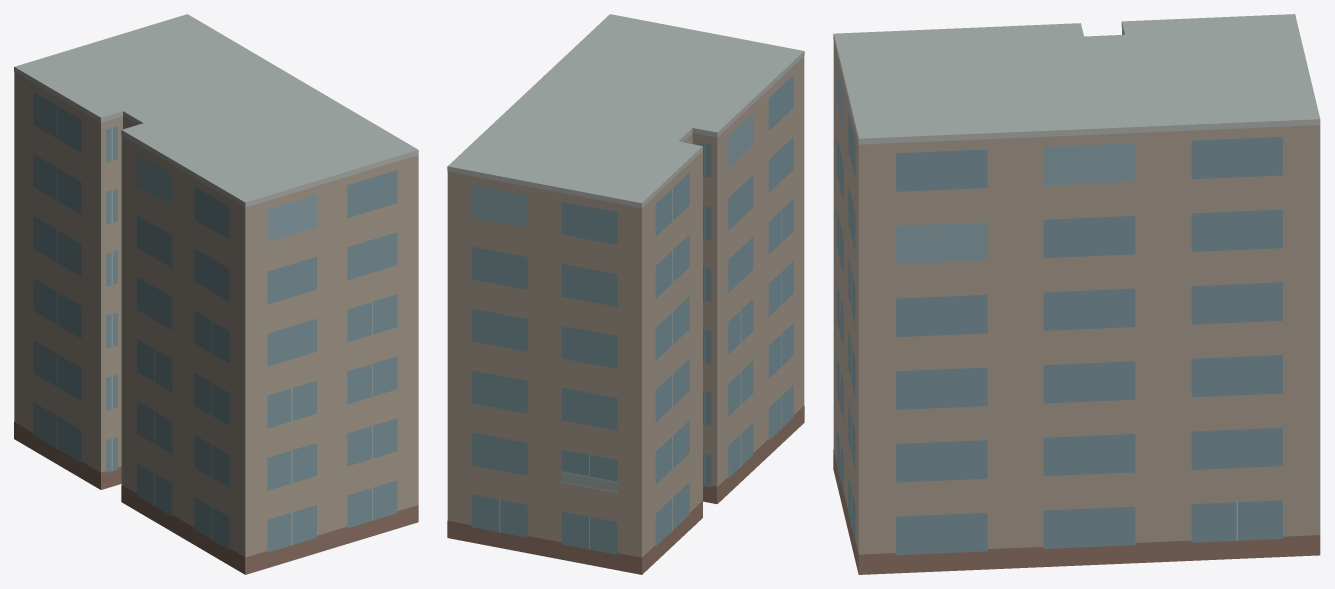
The model's file is survey-upis-32662162.glb.
The picture shows the model from 3 angles, left to right: view 1: azimuth 30°, elevation 25°; view 2: azimuth 150°, elevation 25°; view 3: azimuth 270°, elevation 25°; orthographic projection. The views are drawn at different scales.
Parts seen in each view (by area): view 1: survey-upis-32662162.tmp; view 2: survey-upis-32662162.tmp; view 3: survey-upis-32662162.tmp.
Boxes of the visible parts, bbox=[...] form: survey-upis-32662162.tmp: bbox=[14, 14, 418, 574]; survey-upis-32662162.tmp: bbox=[447, 14, 804, 574]; survey-upis-32662162.tmp: bbox=[833, 14, 1320, 574].
Size of the model in its own units: 11.12 by 18.1 by 18.32.
